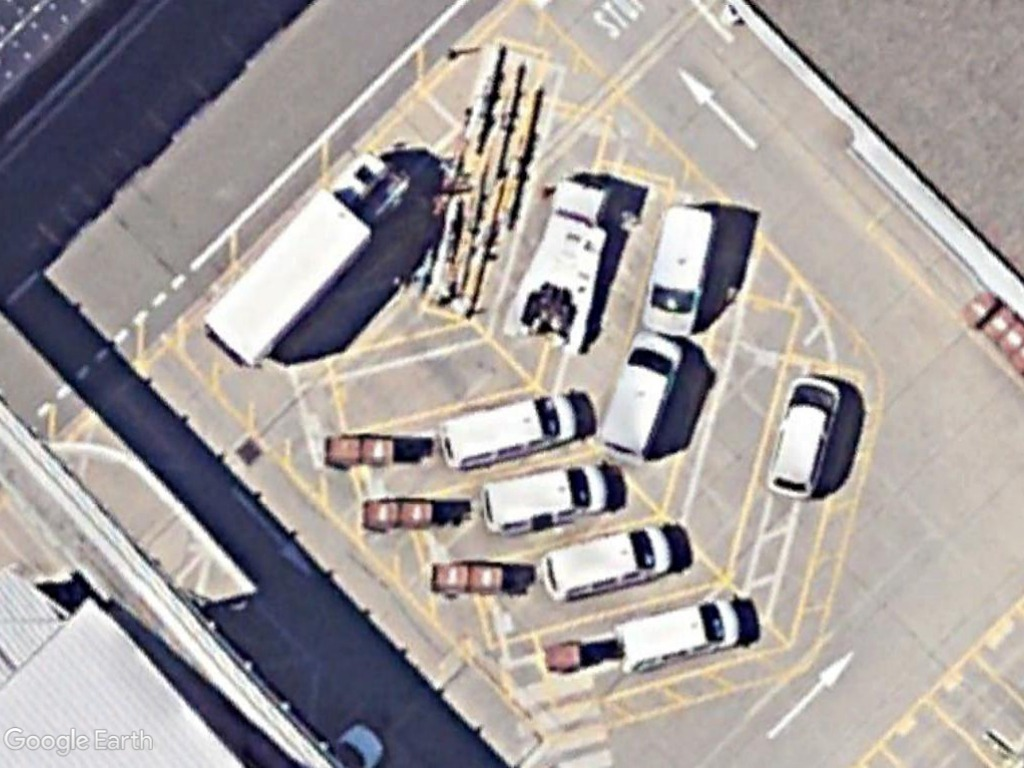car: (764, 372, 843, 501)
pushback: (499, 218, 613, 360)
truck: (198, 153, 402, 375)
van: (436, 384, 584, 470), (594, 330, 689, 462), (629, 202, 721, 336), (541, 521, 671, 607), (473, 460, 612, 539), (613, 594, 748, 673)
